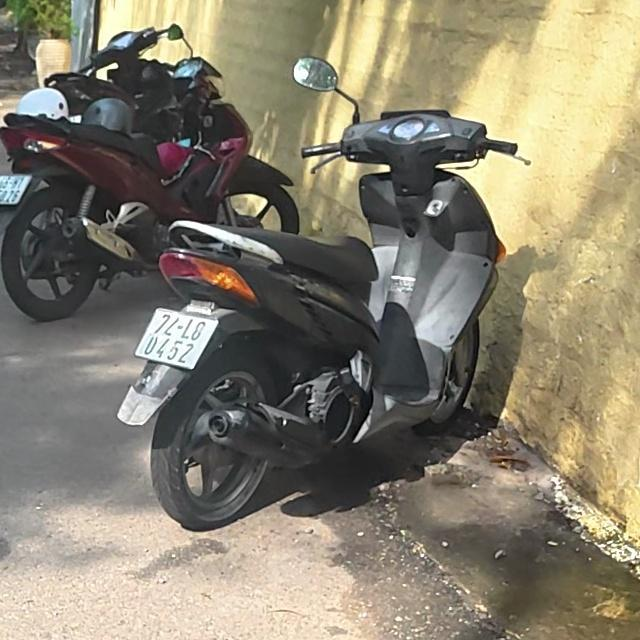motorcycle: (110, 214, 522, 526), (0, 92, 302, 308)
plate: (136, 304, 220, 374), (0, 164, 38, 218)
